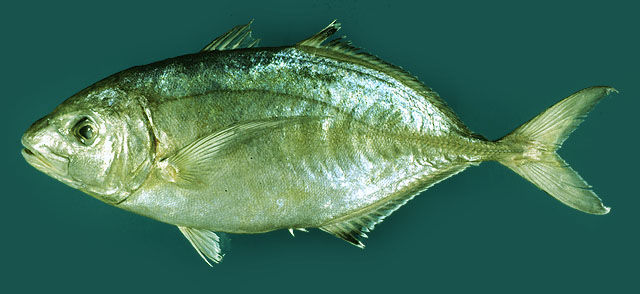fish: (21, 19, 622, 267)
